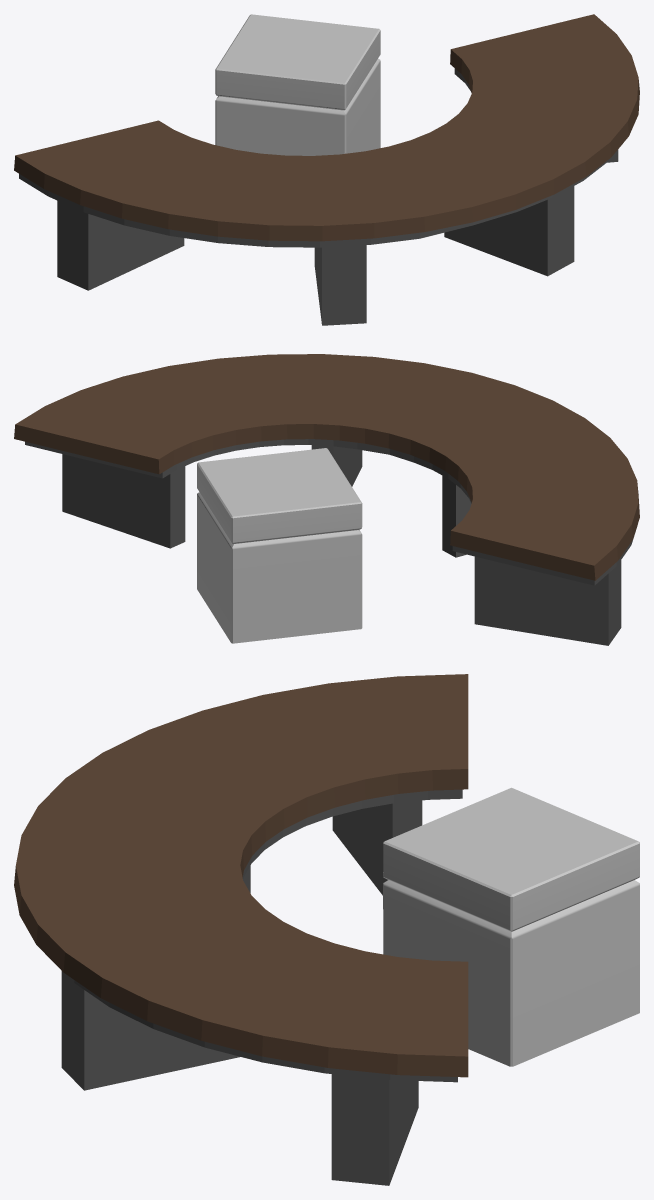
File: banco.fbx
The picture shows the model from 3 angles, top to bottom: view 1: azimuth 30°, elevation 25°; view 2: azimuth 150°, elevation 25°; view 3: azimuth 270°, elevation 25°; orthographic projection. The views are drawn at different scales.
Parts seen in each view (by area): view 1: banco, mesa; view 2: banco, mesa; view 3: banco, mesa.
Part boxes in pixels (x1,y1,x2,y2): banco: (14,14,639,325); mesa: (215,14,380,155); banco: (14,354,639,645); mesa: (197,448,362,643); banco: (14,674,468,1185); mesa: (383,787,639,1066).
Size of the model in its own units: 4.95 by 1.03 by 3.41.
